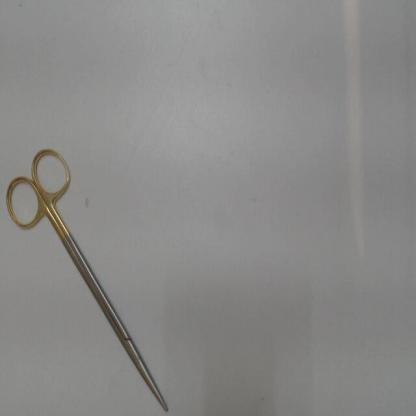7 Metzenbaum Scissors: (5, 144, 170, 413)
